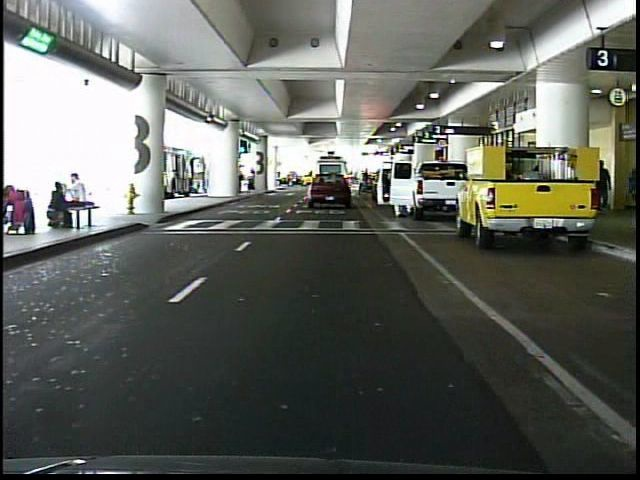person: (624, 147, 639, 233), (596, 156, 616, 212), (247, 167, 259, 193)
